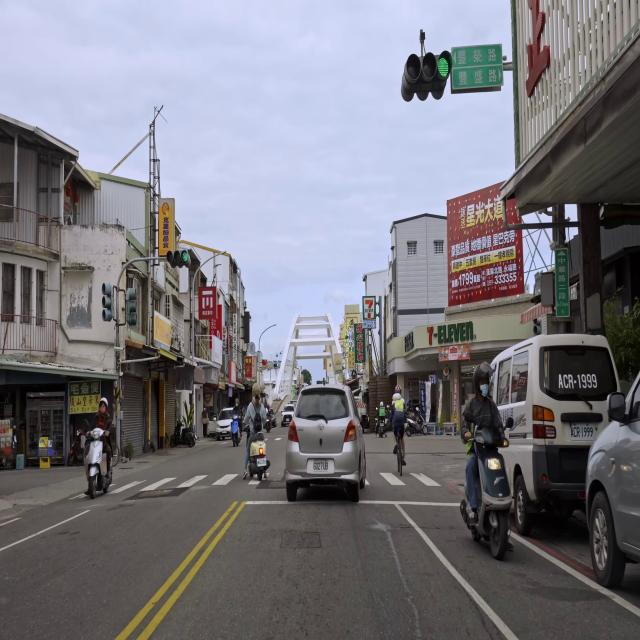green light: (405, 52, 451, 80), (165, 249, 189, 263)
